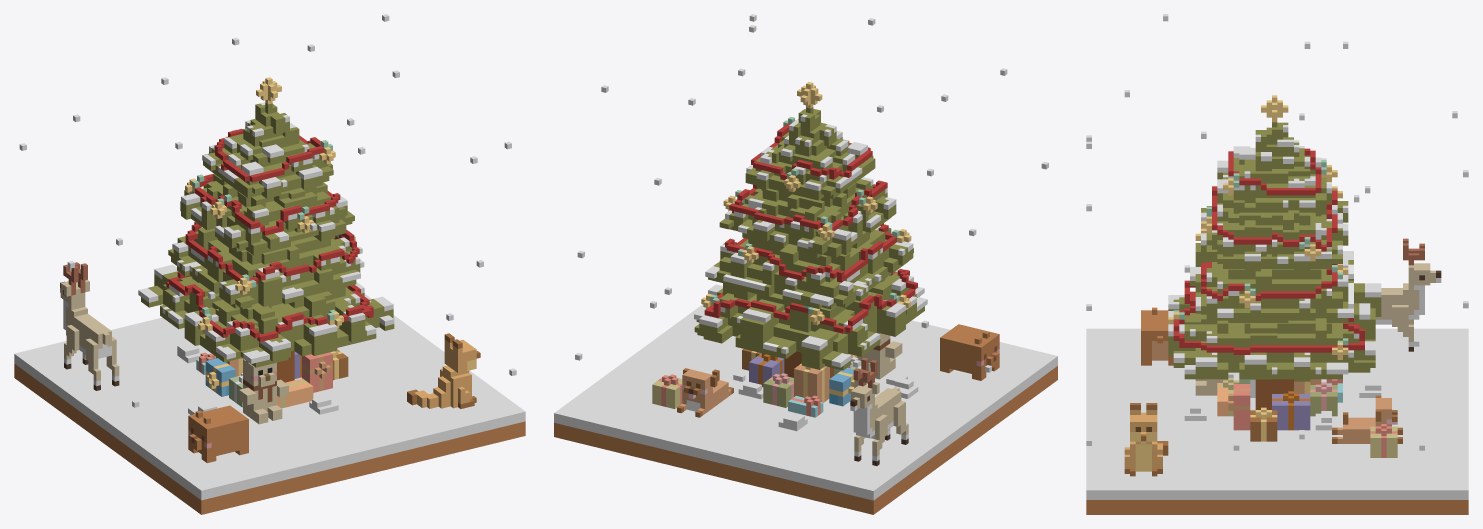
Rendered from Tree6.glb.
3 renders of one model, left to right at view 1: azimuth 30°, elevation 25°; view 2: azimuth 150°, elevation 25°; view 3: azimuth 270°, elevation 25°, orthographic. The views are drawn at different scales.
Visible parts, largest first — view 1: Xmas03:Mesh; view 2: Xmas03:Mesh; view 3: Xmas03:Mesh.
Part boxes in pixels (<box>): Xmas03:Mesh: <box>14,14,525,514</box>; Xmas03:Mesh: <box>554,14,1057,514</box>; Xmas03:Mesh: <box>1086,14,1468,514</box>.
Size of the model in its own units: 4 by 4 by 4.
Materials: 1 (1 with a texture image).
